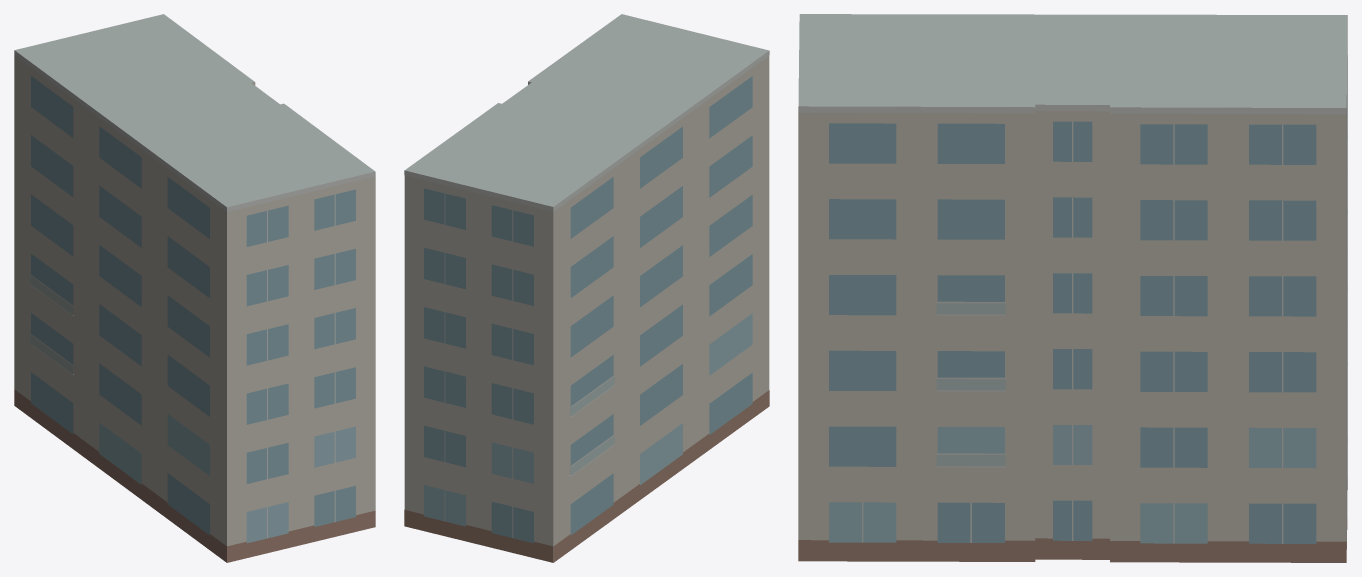
File: survey-upis-32661794.glb
The picture shows the model from 3 angles, left to right: view 1: azimuth 30°, elevation 25°; view 2: azimuth 150°, elevation 25°; view 3: azimuth 270°, elevation 25°; orthographic projection. The views are drawn at different scales.
Visible parts, largest first — view 1: survey-upis-32661794.tmp; view 2: survey-upis-32661794.tmp; view 3: survey-upis-32661794.tmp.
Part boxes in pixels (x1,y1,x2,y2): survey-upis-32661794.tmp: (14, 14, 375, 562); survey-upis-32661794.tmp: (404, 14, 769, 562); survey-upis-32661794.tmp: (798, 14, 1347, 562).
Bounding box in the file's own units: 7.93 × 17.86 × 19.55.
